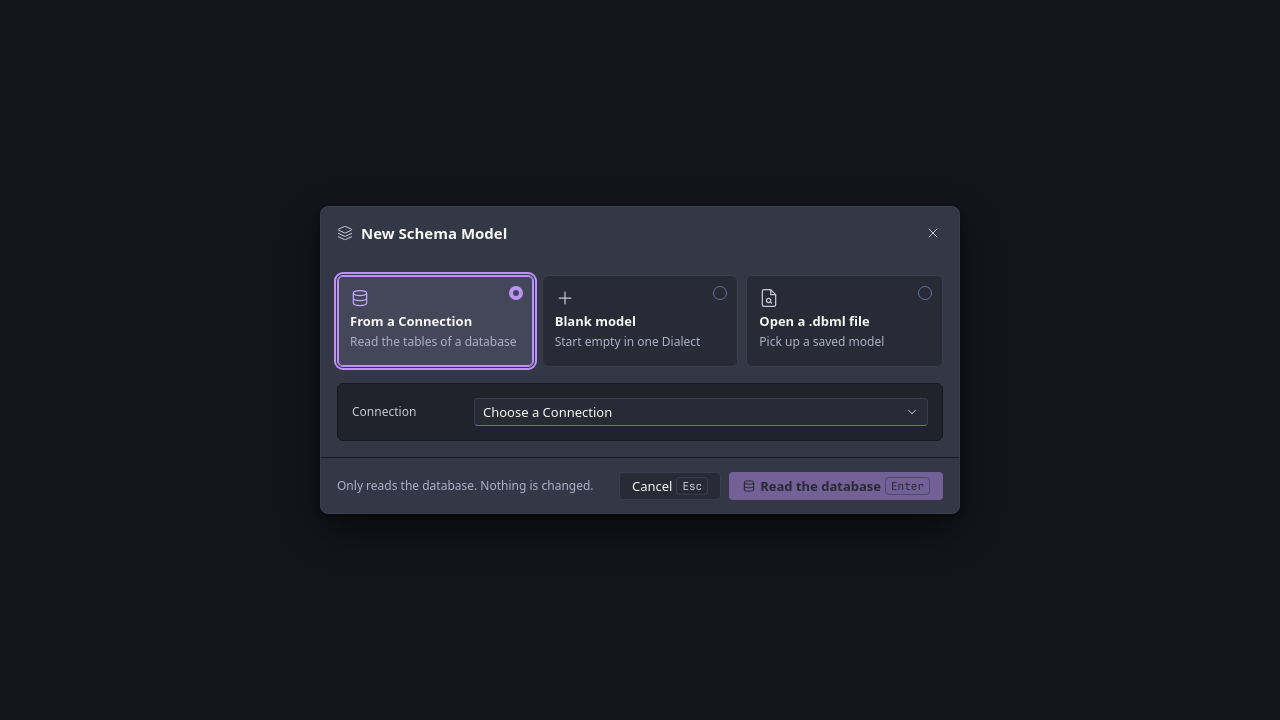
Test: connection_picker_shows_marks_prod_and_read_only
Click the dropdown labelled "Connection" at (548, 412), box [474,398,928,426]
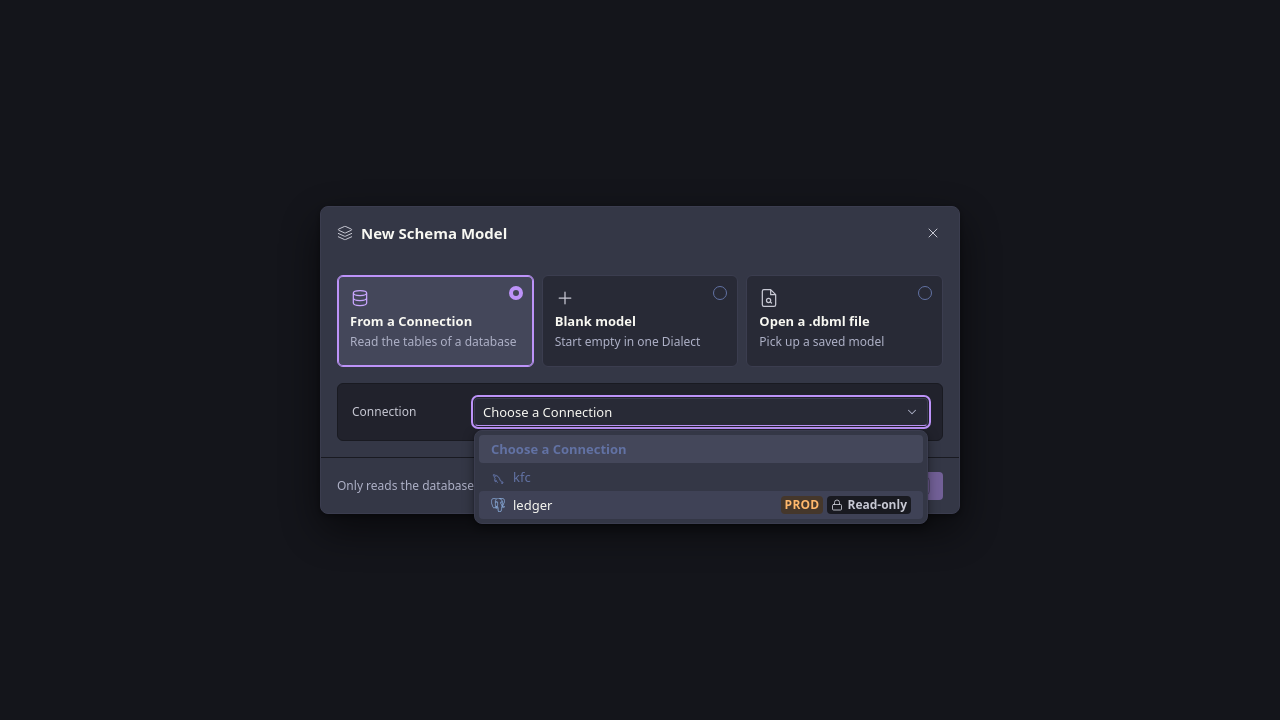
Expected: the picture named "PostgreSQL, open" is shown, [491,498,505,512]
Expected: the option "ledger PROD Read-only" is shown, [479,491,923,519]
Expected: the picture named "MySQL, closed" is shown, [491,470,505,484]
